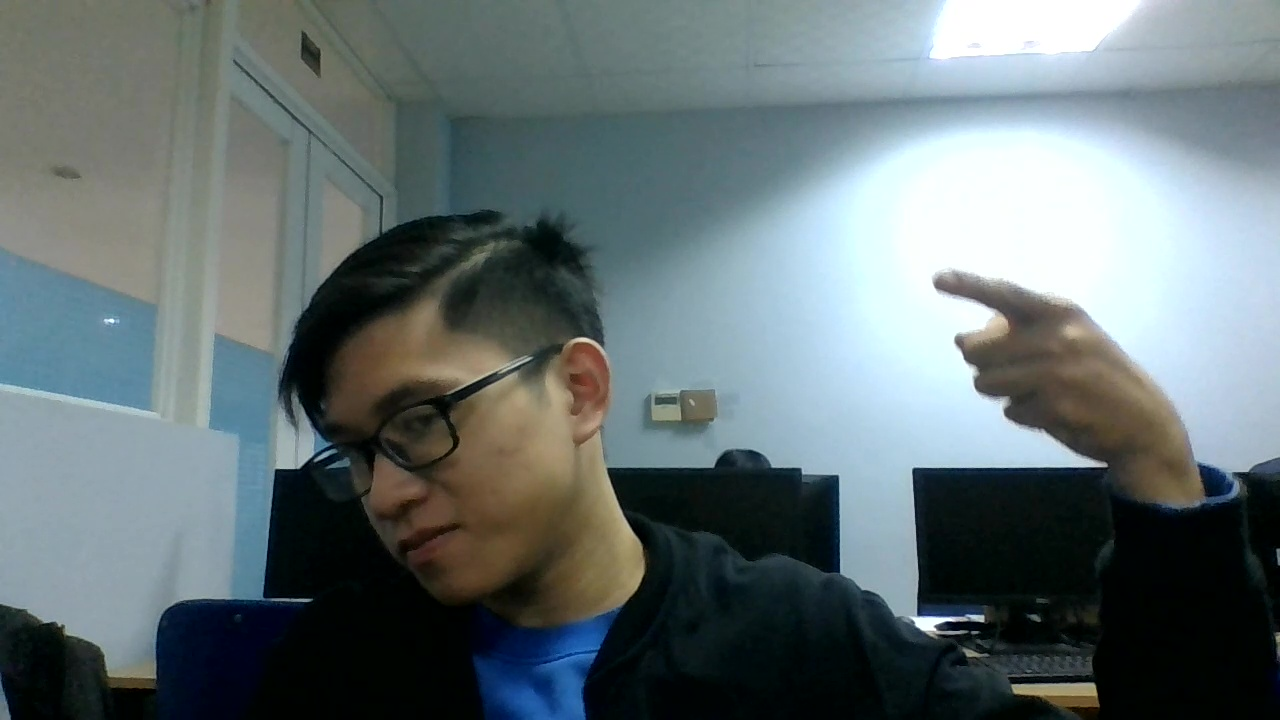right: (932, 260, 1201, 460)
